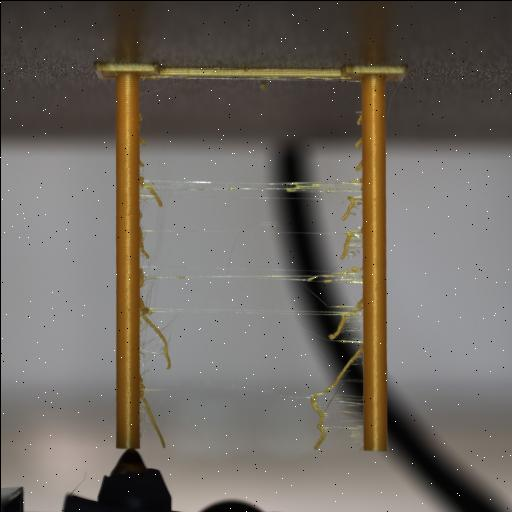stringing: (286, 168, 362, 226), (140, 308, 170, 370), (327, 294, 361, 340), (141, 393, 165, 449), (310, 394, 326, 448), (339, 228, 361, 262), (342, 190, 362, 220), (138, 226, 148, 260), (354, 158, 362, 172), (355, 296, 363, 310), (354, 136, 362, 148), (138, 134, 146, 146), (356, 112, 362, 124), (138, 158, 144, 166), (139, 176, 143, 186), (138, 111, 142, 121), (358, 176, 362, 182)
